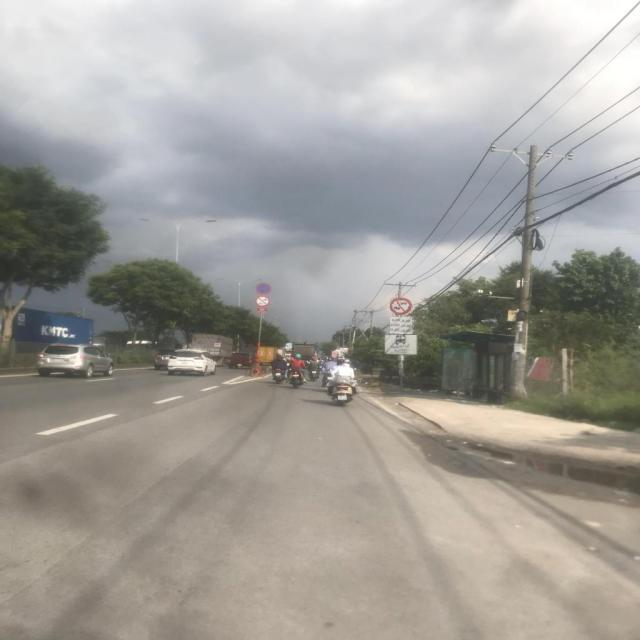107-cam-oto-khach-va-oto-tai: (391, 297, 414, 315)
